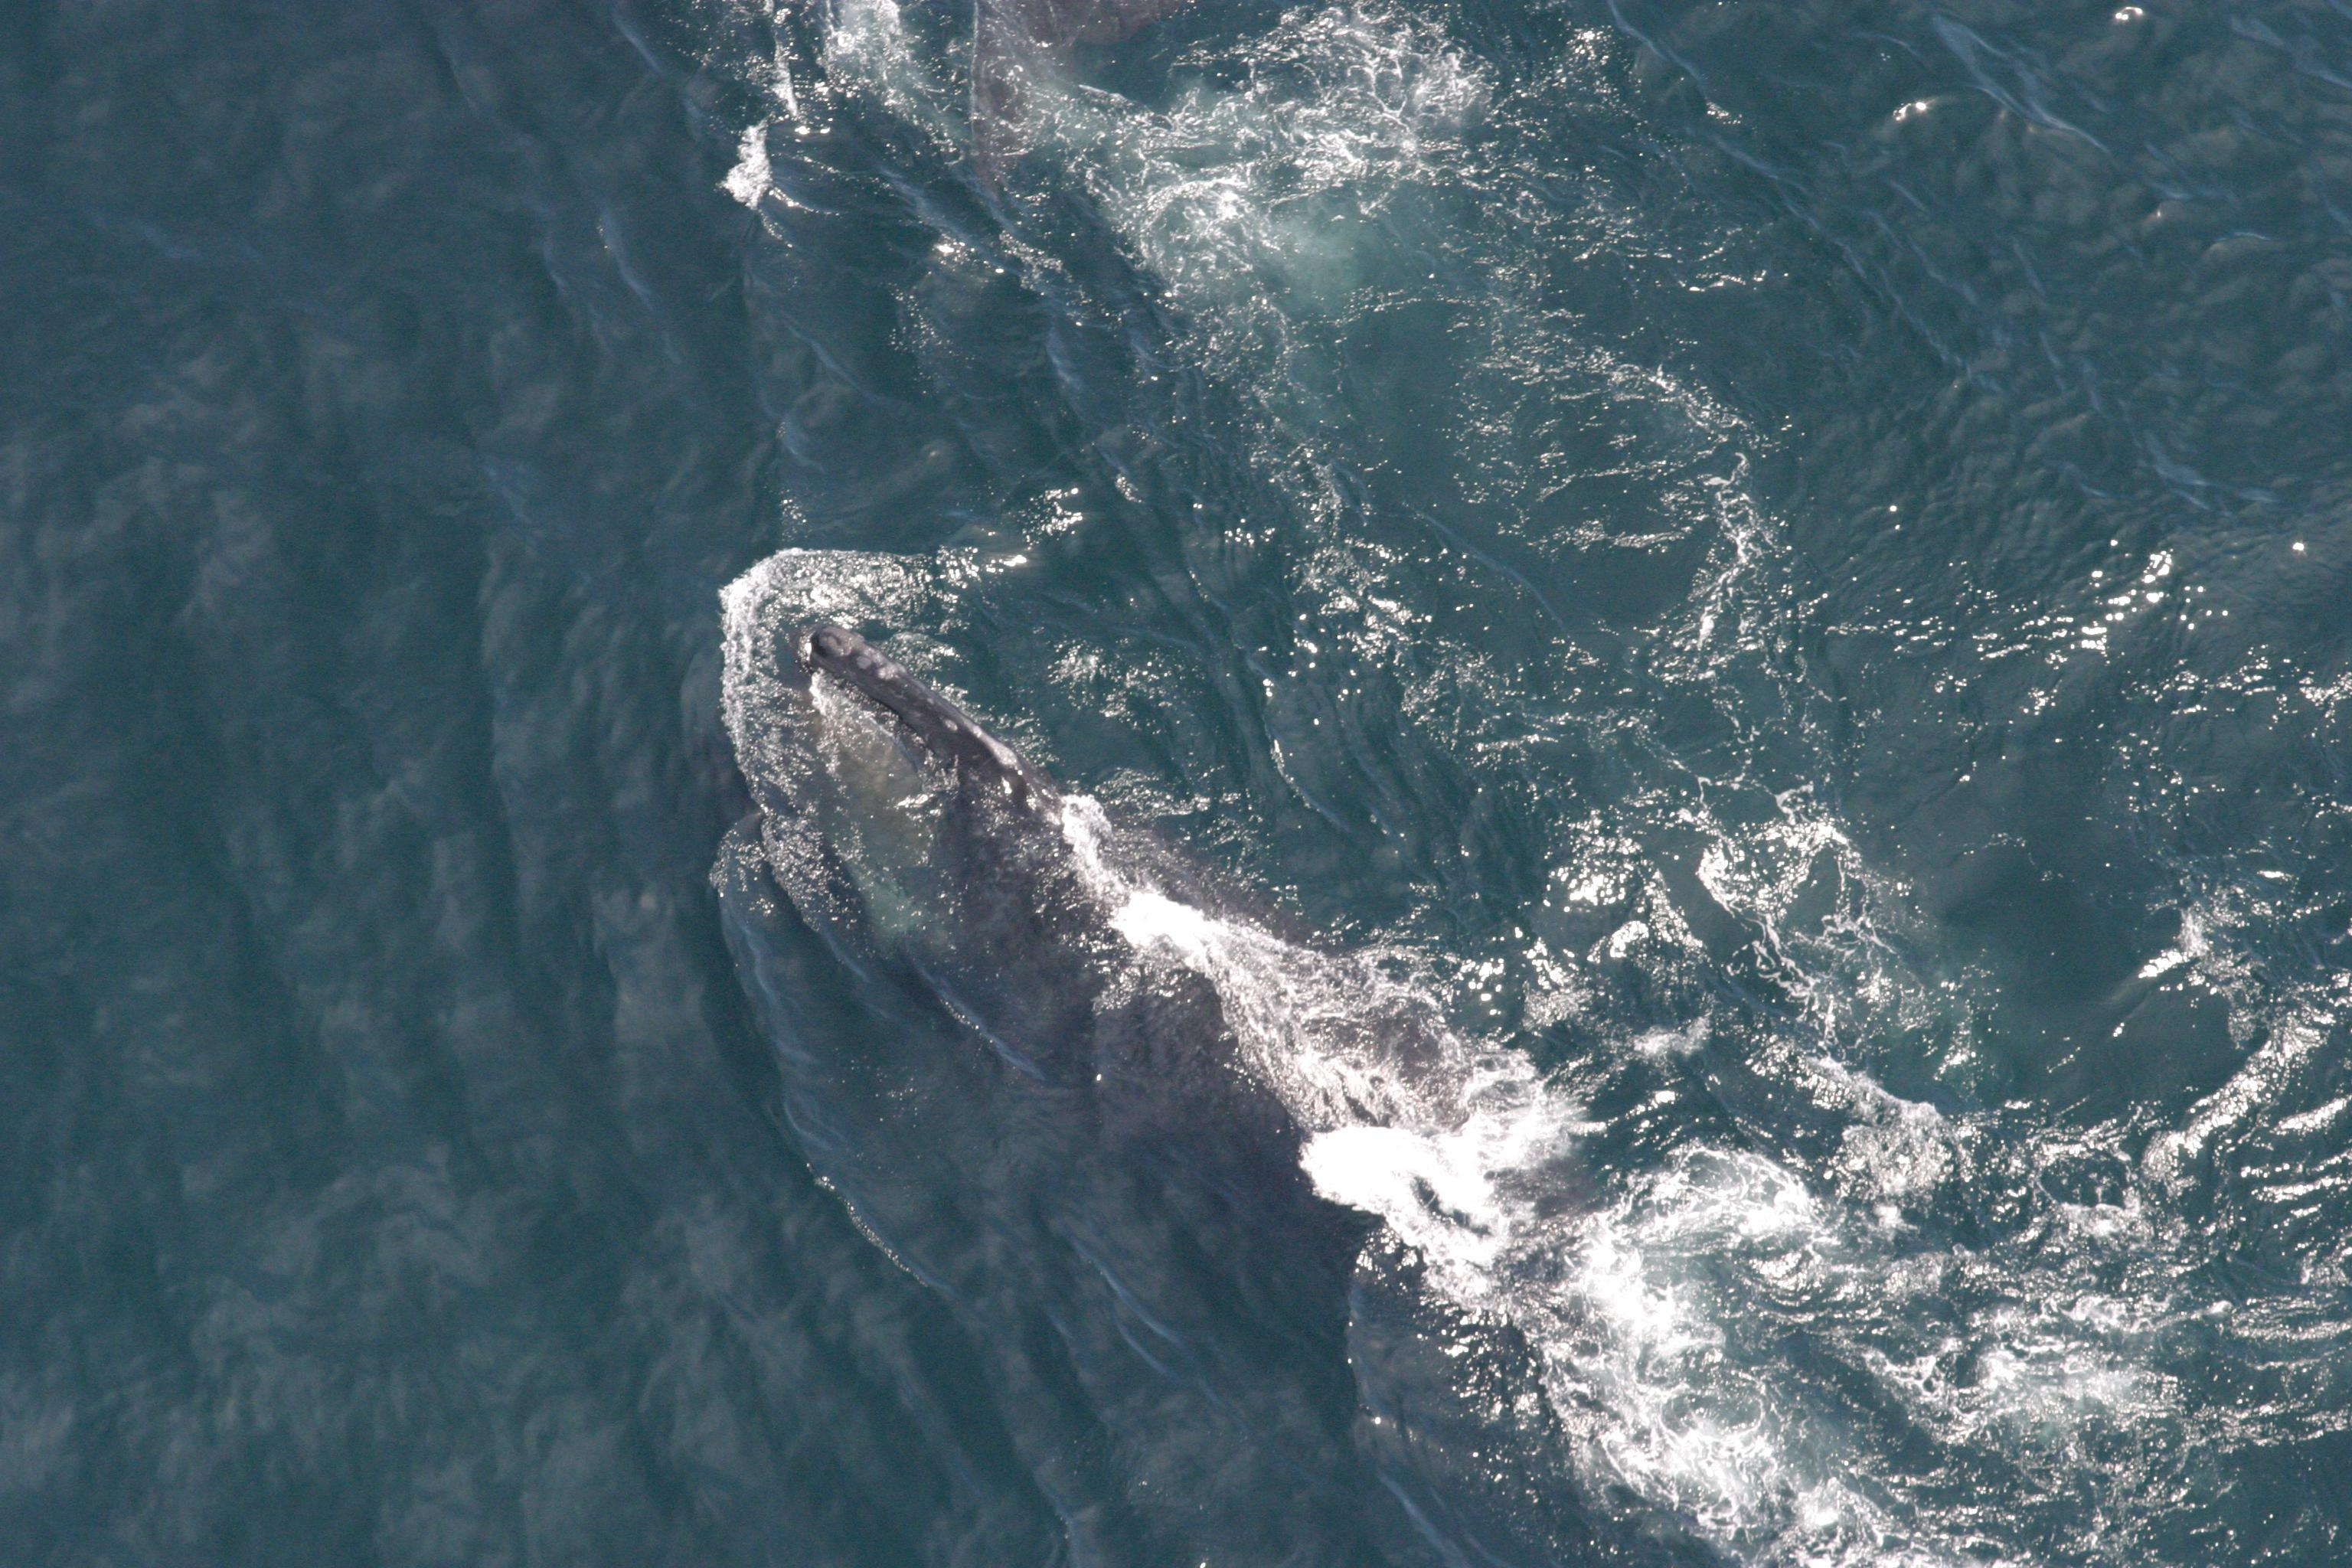whale: (705, 605, 1617, 1375)
